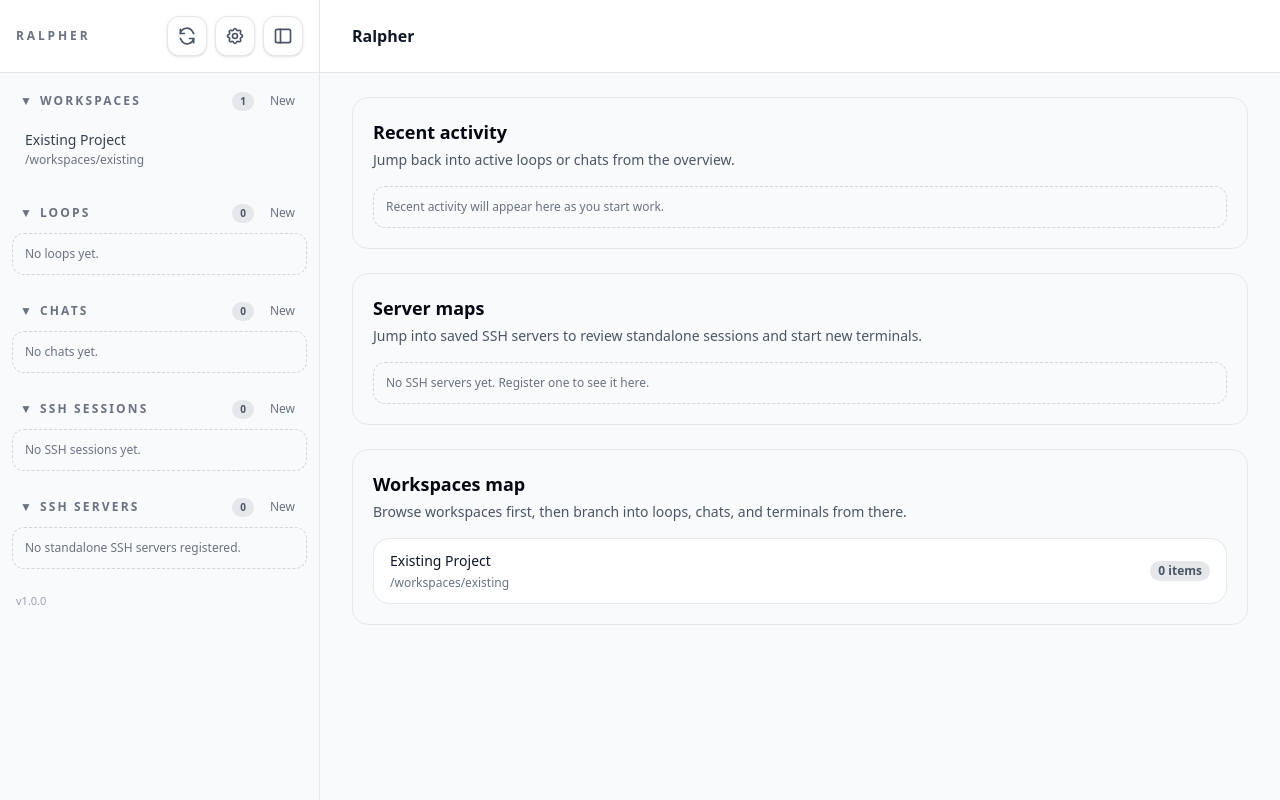
it: workspace management scenario › workspace map includes empty workspaces and navigates to workspace details
Check: the heading "Workspaces map" is shown, box [373,472,525,496]
Click the 1st text "Existing Project" at coordinates (75, 140), box [25,130,126,149]
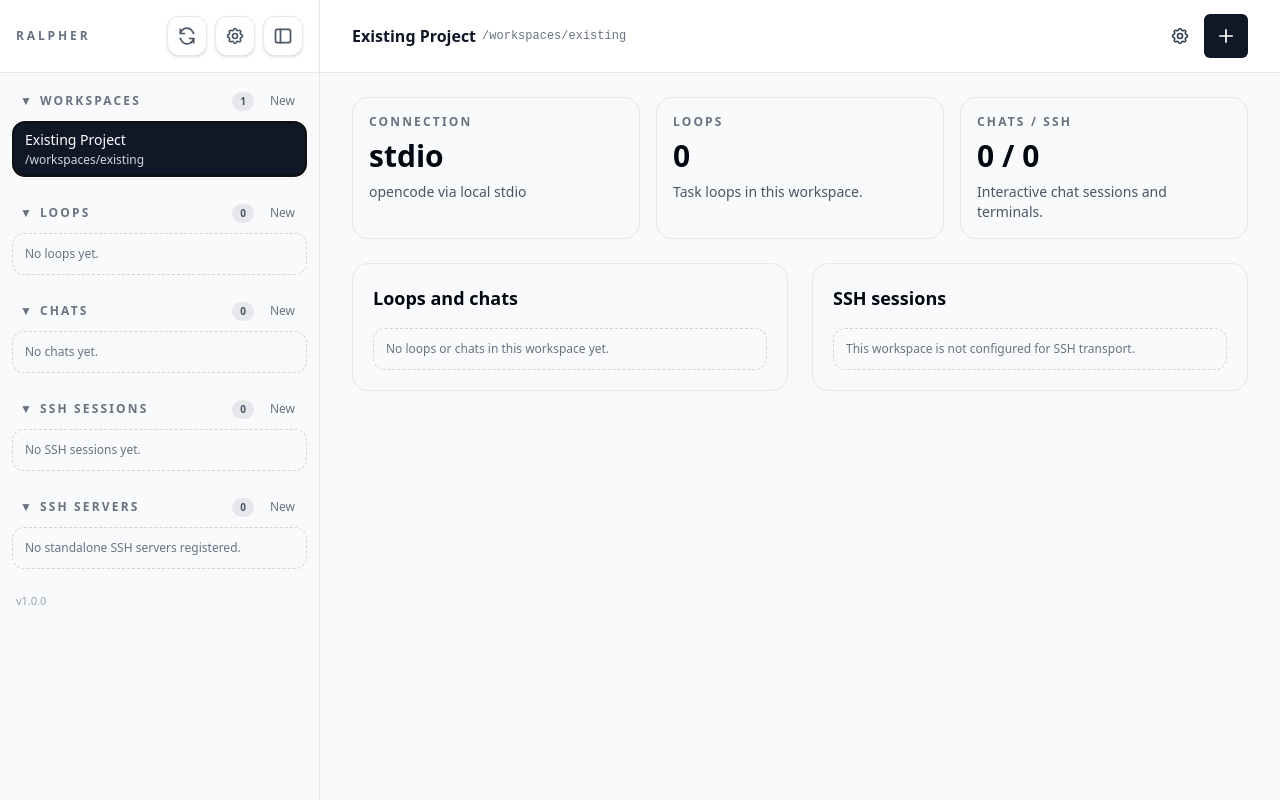
Check: the heading "Existing Project" is shown, box [352,24,476,48]
Check: the text "No loops or chats in this workspace yet." is shown, box [373,328,767,370]
